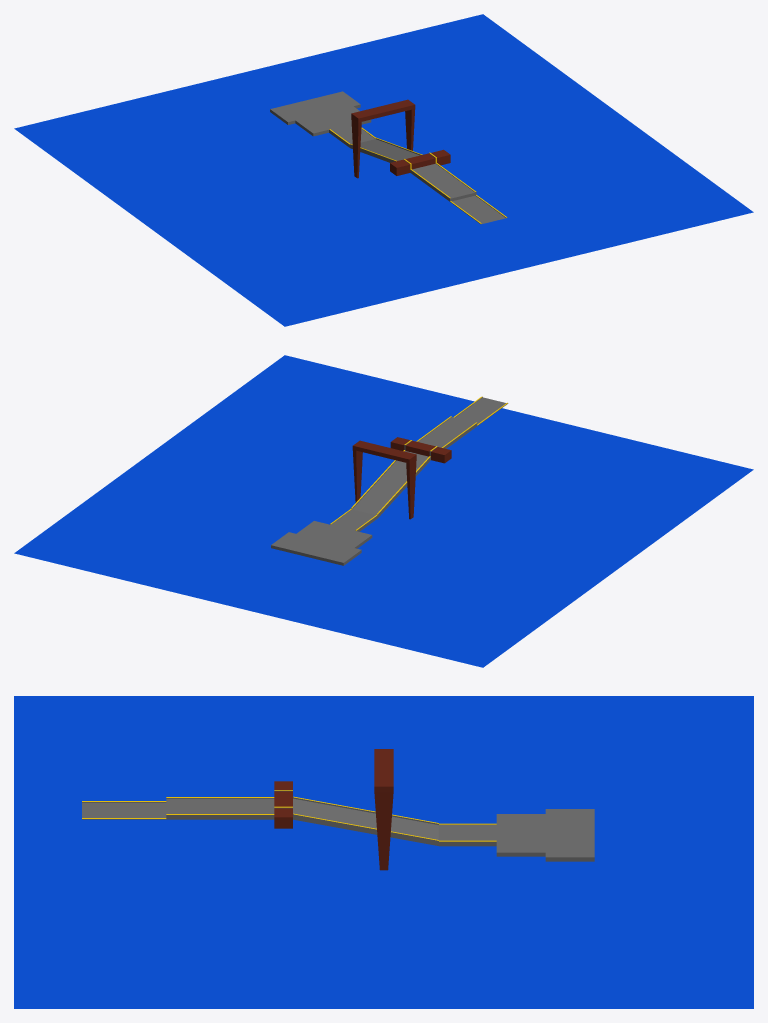
The model's file is DemoAct.fbx.
3 views of the same model, one above another, from view 1: azimuth 30°, elevation 25°; view 2: azimuth 150°, elevation 25°; view 3: azimuth 270°, elevation 25° (orthographic). The views are drawn at different scales.
Parts seen in each view (by area): view 1: Water, PathA, PathA.a; view 2: Water, PathA, PathA.a; view 3: Water, PathA, PathA.a.
Boxes of the visible parts, x1,y1,x2,y2 form: Water: (14, 14, 753, 326); PathA: (270, 91, 507, 224); PathA.a: (351, 99, 415, 178); Water: (14, 355, 753, 667); PathA: (271, 396, 508, 565); PathA.a: (352, 440, 416, 519); Water: (14, 696, 753, 1008); PathA: (82, 781, 594, 861); PathA.a: (374, 749, 393, 870).
Bounding box in the file's own units: 3514 × 458 × 3514.
